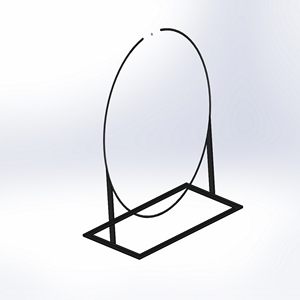circle: (82, 25, 243, 260)
